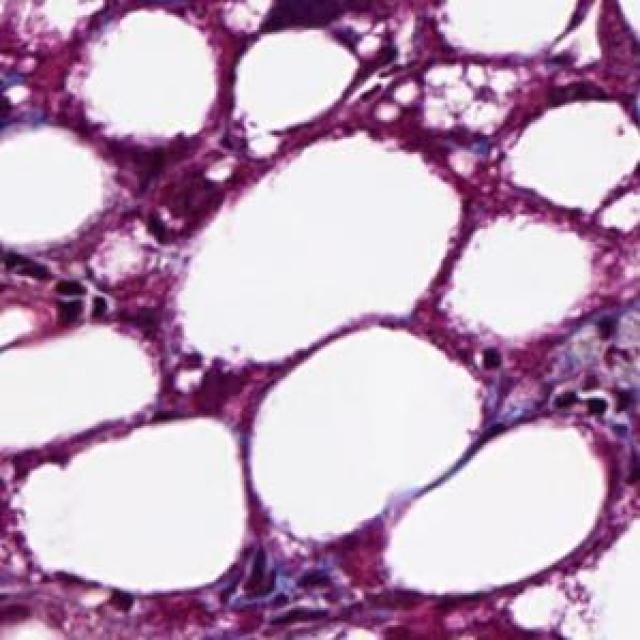inflammation: (541, 310, 640, 421), (232, 552, 341, 627), (41, 272, 120, 336)
